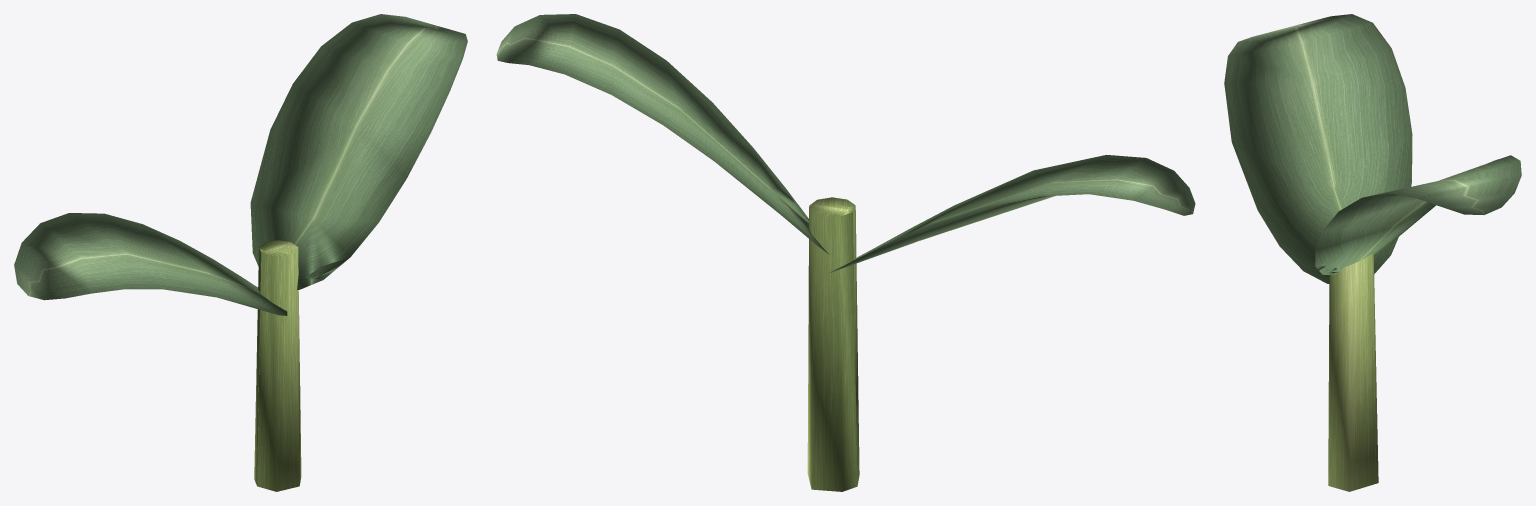
Rendered from NP_Lavender_Sprout_LOD1.fbx.
3 views of the same model, side by side, from view 1: azimuth 30°, elevation 25°; view 2: azimuth 150°, elevation 25°; view 3: azimuth 270°, elevation 25° (orthographic). The views are drawn at different scales.
Visible parts, largest first — view 1: NP_Lavender_Sprout; view 2: NP_Lavender_Sprout; view 3: NP_Lavender_Sprout.
Boxes of the visible parts, x1,y1,x2,y2 form: NP_Lavender_Sprout: (14,14,467,491); NP_Lavender_Sprout: (496,14,1195,491); NP_Lavender_Sprout: (1224,14,1521,491).
Size of the model in its own units: 21.59 by 14.81 by 9.96.
